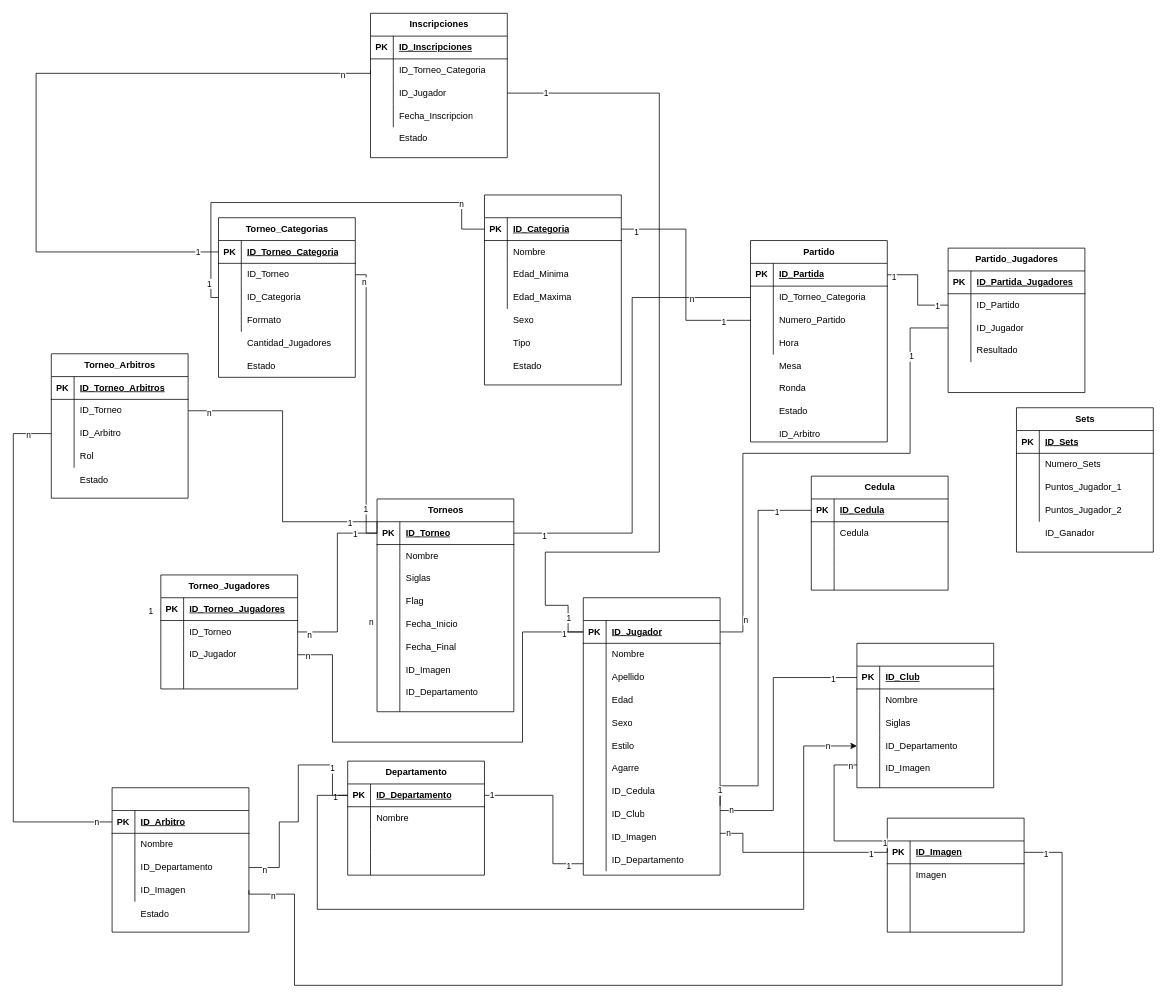
The diagram is 1167 pixels wide and 999 high, and some of its shapes have lost their labels. Each missing label, with the box of its shape:
Arbitros: (111, 787, 249, 932)
Categorias: (484, 194, 621, 385)
Clubes: (856, 643, 994, 788)
Imagenes: (887, 817, 1024, 932)
Jugadores: (583, 597, 720, 875)
